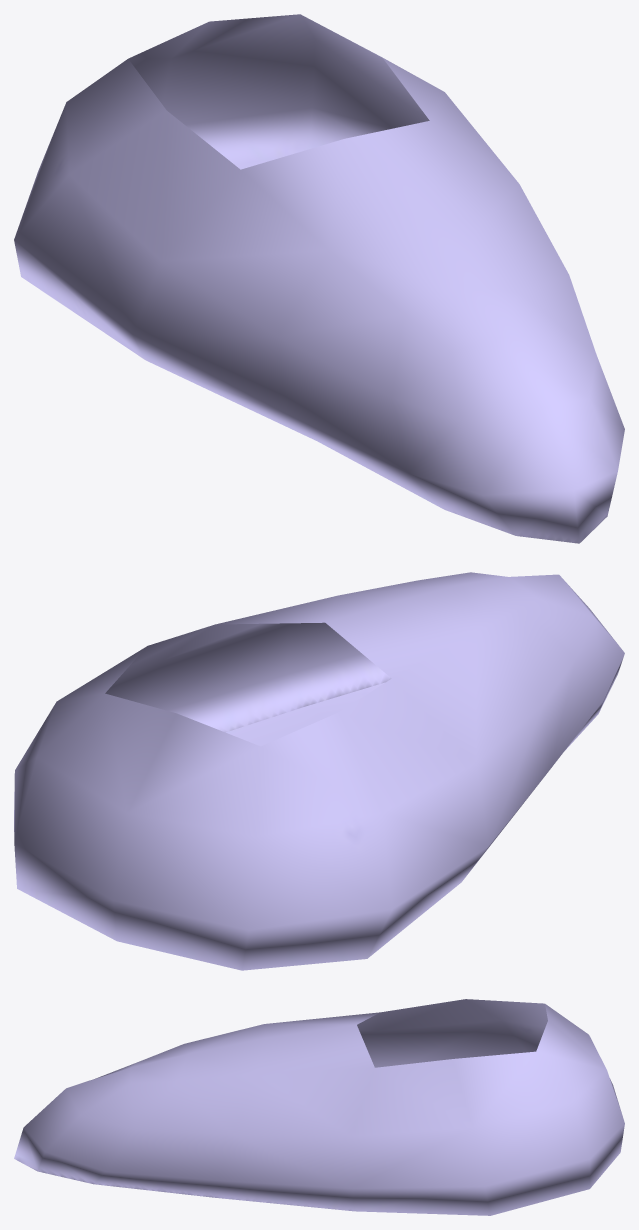
Rendered from pIzq.obj.
3 views of the same model, one above another, from view 1: azimuth 30°, elevation 25°; view 2: azimuth 150°, elevation 25°; view 3: azimuth 270°, elevation 25° (orthographic). The views are drawn at different scales.
Parts seen in each view (by area): view 1: polySurface71 polySurface67 polySurface54 polySurface30 kaioh:le; view 2: polySurface71 polySurface67 polySurface54 polySurface30 kaioh:le; view 3: polySurface71 polySurface67 polySurface54 polySurface30 kaioh:le.
Boxes of the visible parts, x1,y1,x2,y2 form: polySurface71 polySurface67 polySurface54 polySurface30 kaioh:le: (14, 14, 624, 543); polySurface71 polySurface67 polySurface54 polySurface30 kaioh:le: (14, 572, 624, 970); polySurface71 polySurface67 polySurface54 polySurface30 kaioh:le: (14, 999, 624, 1215).
Size of the model in its own units: 0.3136 by 0.1581 by 0.5919.
1 material, 1 textured.
